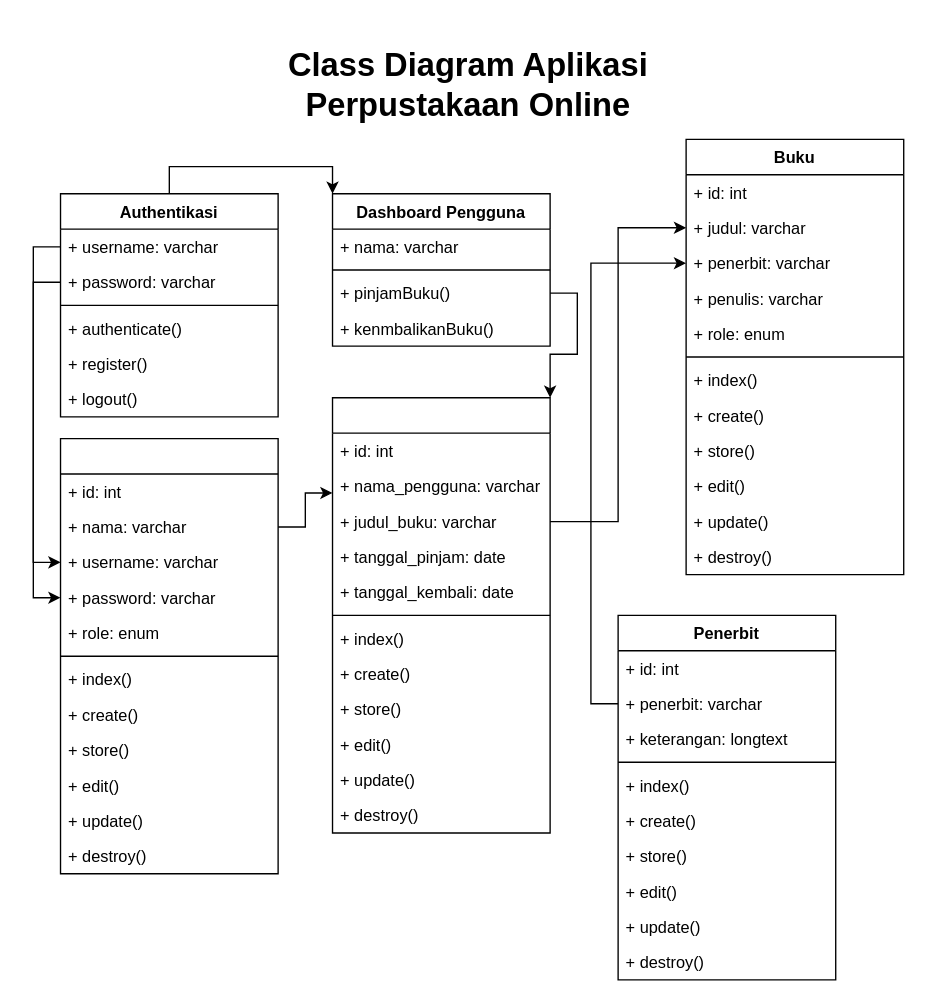
This 928x1006 diagram has some shape labels left out. Here are the shapes that lost their labels. From the top down, the box of each, then its label:
(331, 396, 550, 833): Peminjam
(59, 437, 278, 874): Pengguna
